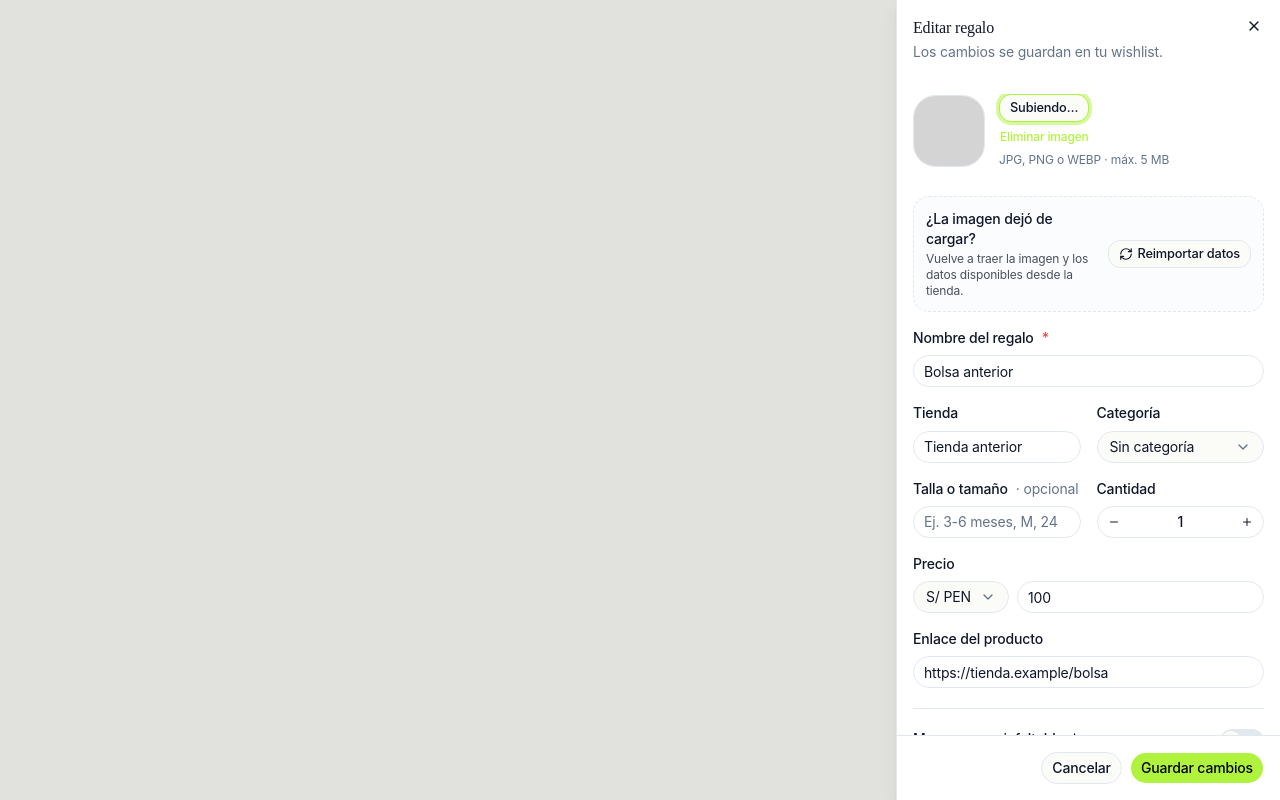
Test: GiftSheet re-import › keeps the recovery action visible and explains a failed retry
Click the button "Reimportar datos": (1180, 254) [1108, 240, 1251, 268]
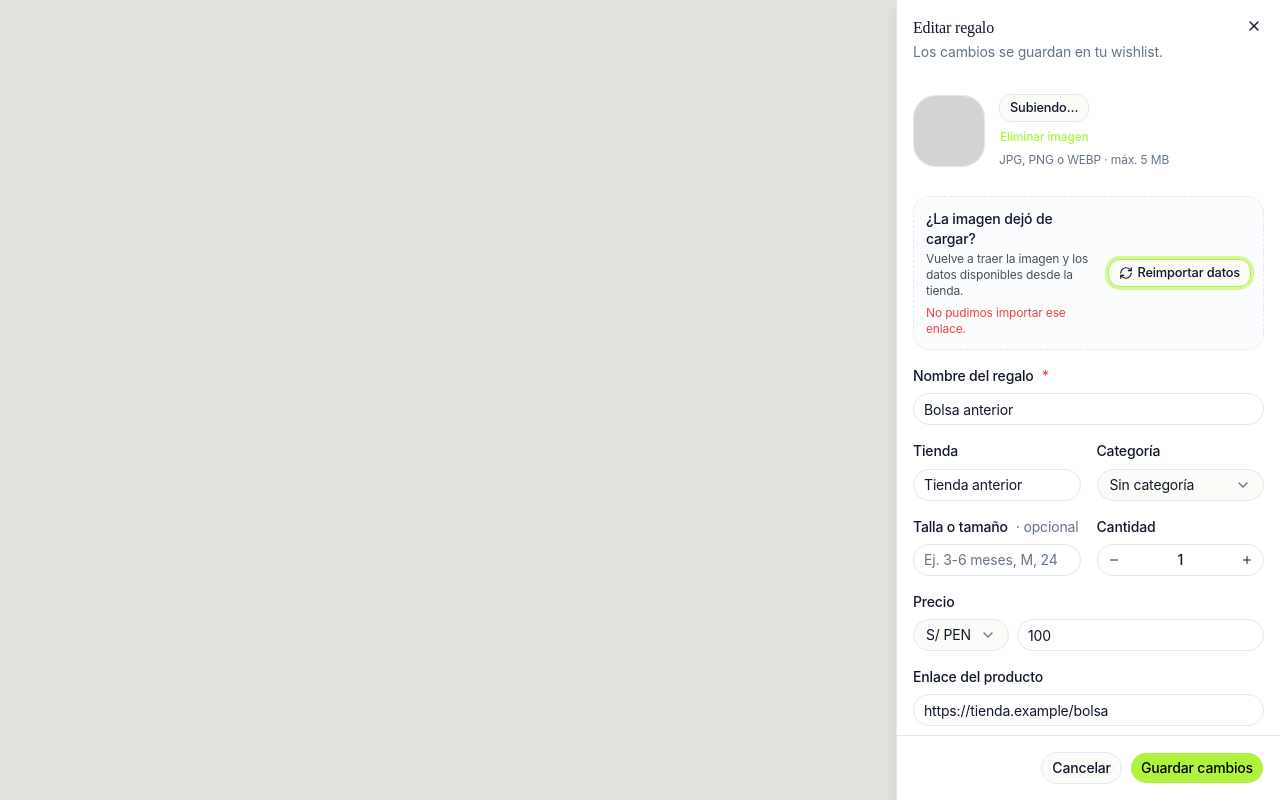
Expected: the button "Reimportar datos" is enabled, [1108, 259, 1251, 287]
Expected: the text "No pudimos importar ese enlace." is shown, [926, 305, 1066, 336]
